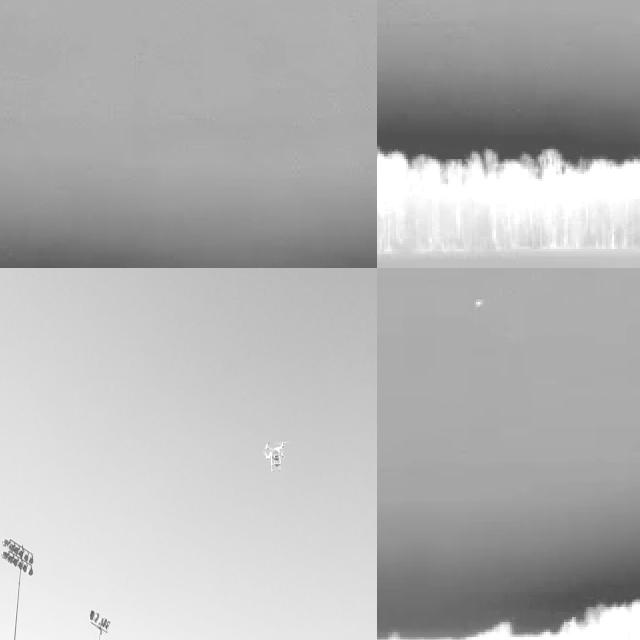0: (465, 295, 485, 317)
drone: (259, 431, 289, 473)
